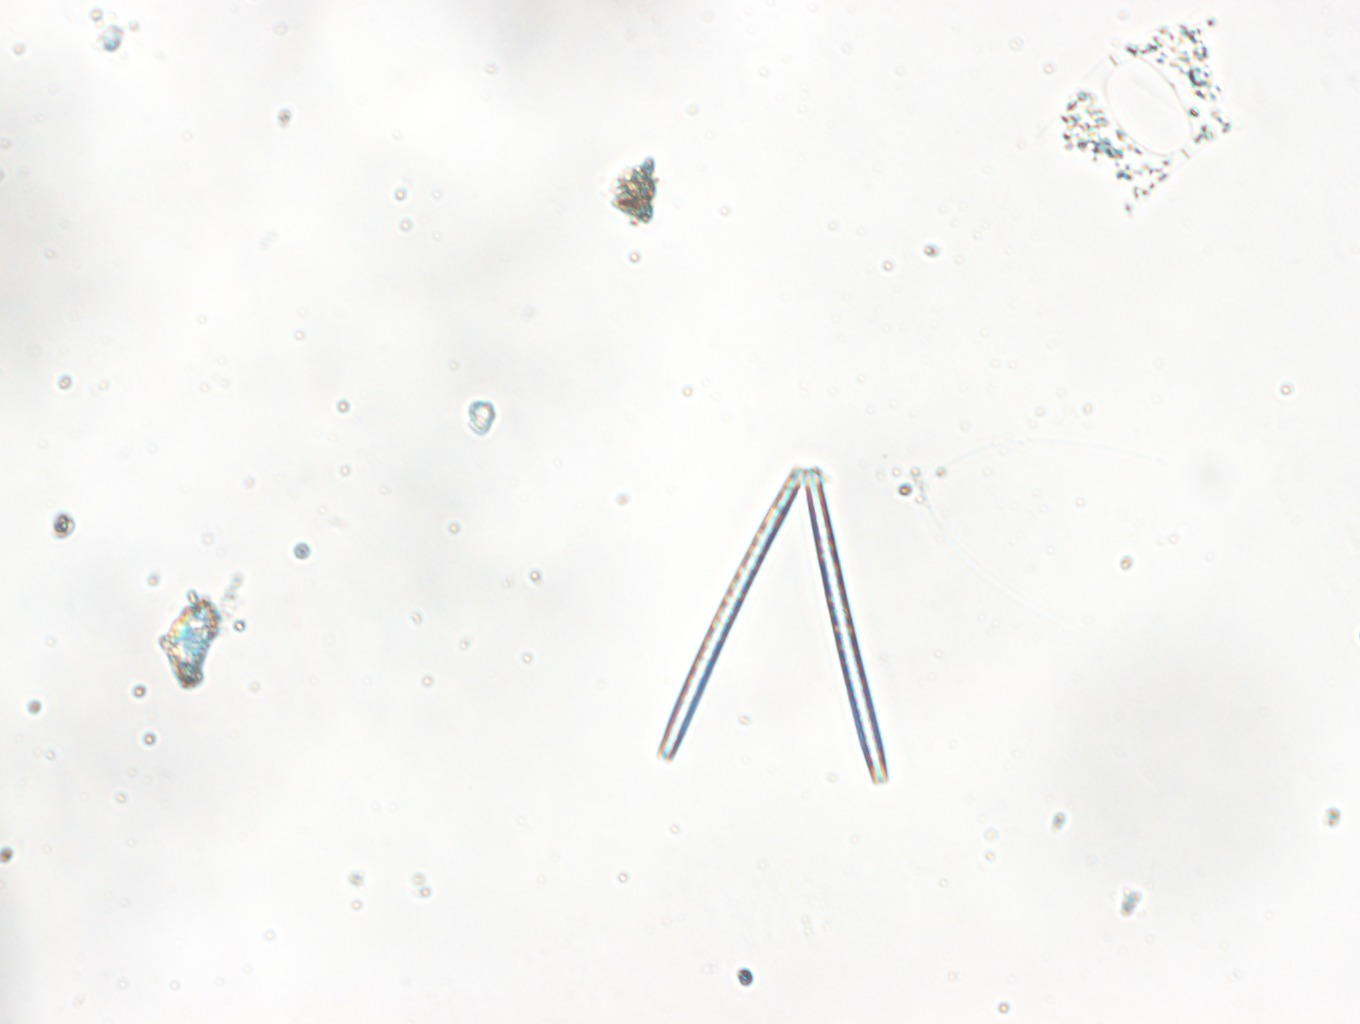eucampia: (1042, 18, 1241, 218)
thalassionema nitzschioides: (657, 466, 890, 785)
